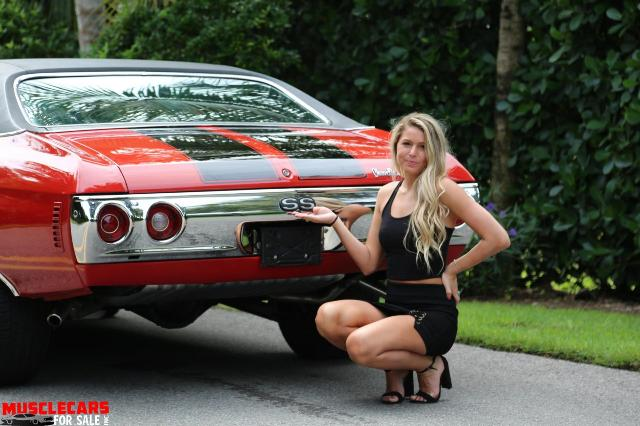chevelle-1972: (0, 58, 401, 385)
